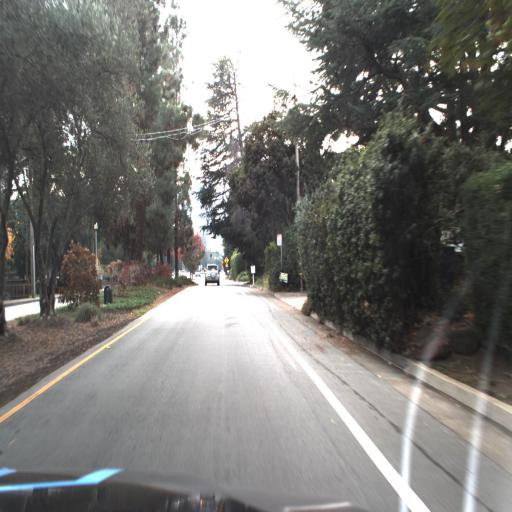car: (201, 258, 222, 286)
